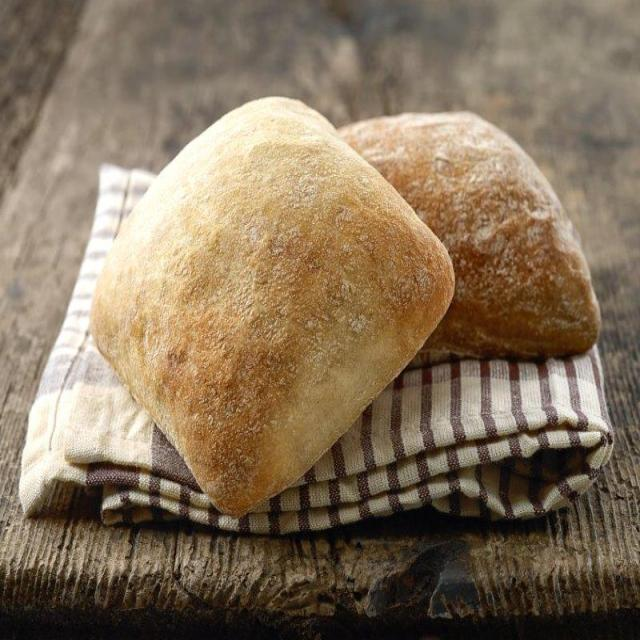Ciabatta: (91, 97, 454, 515), (339, 112, 600, 363)
